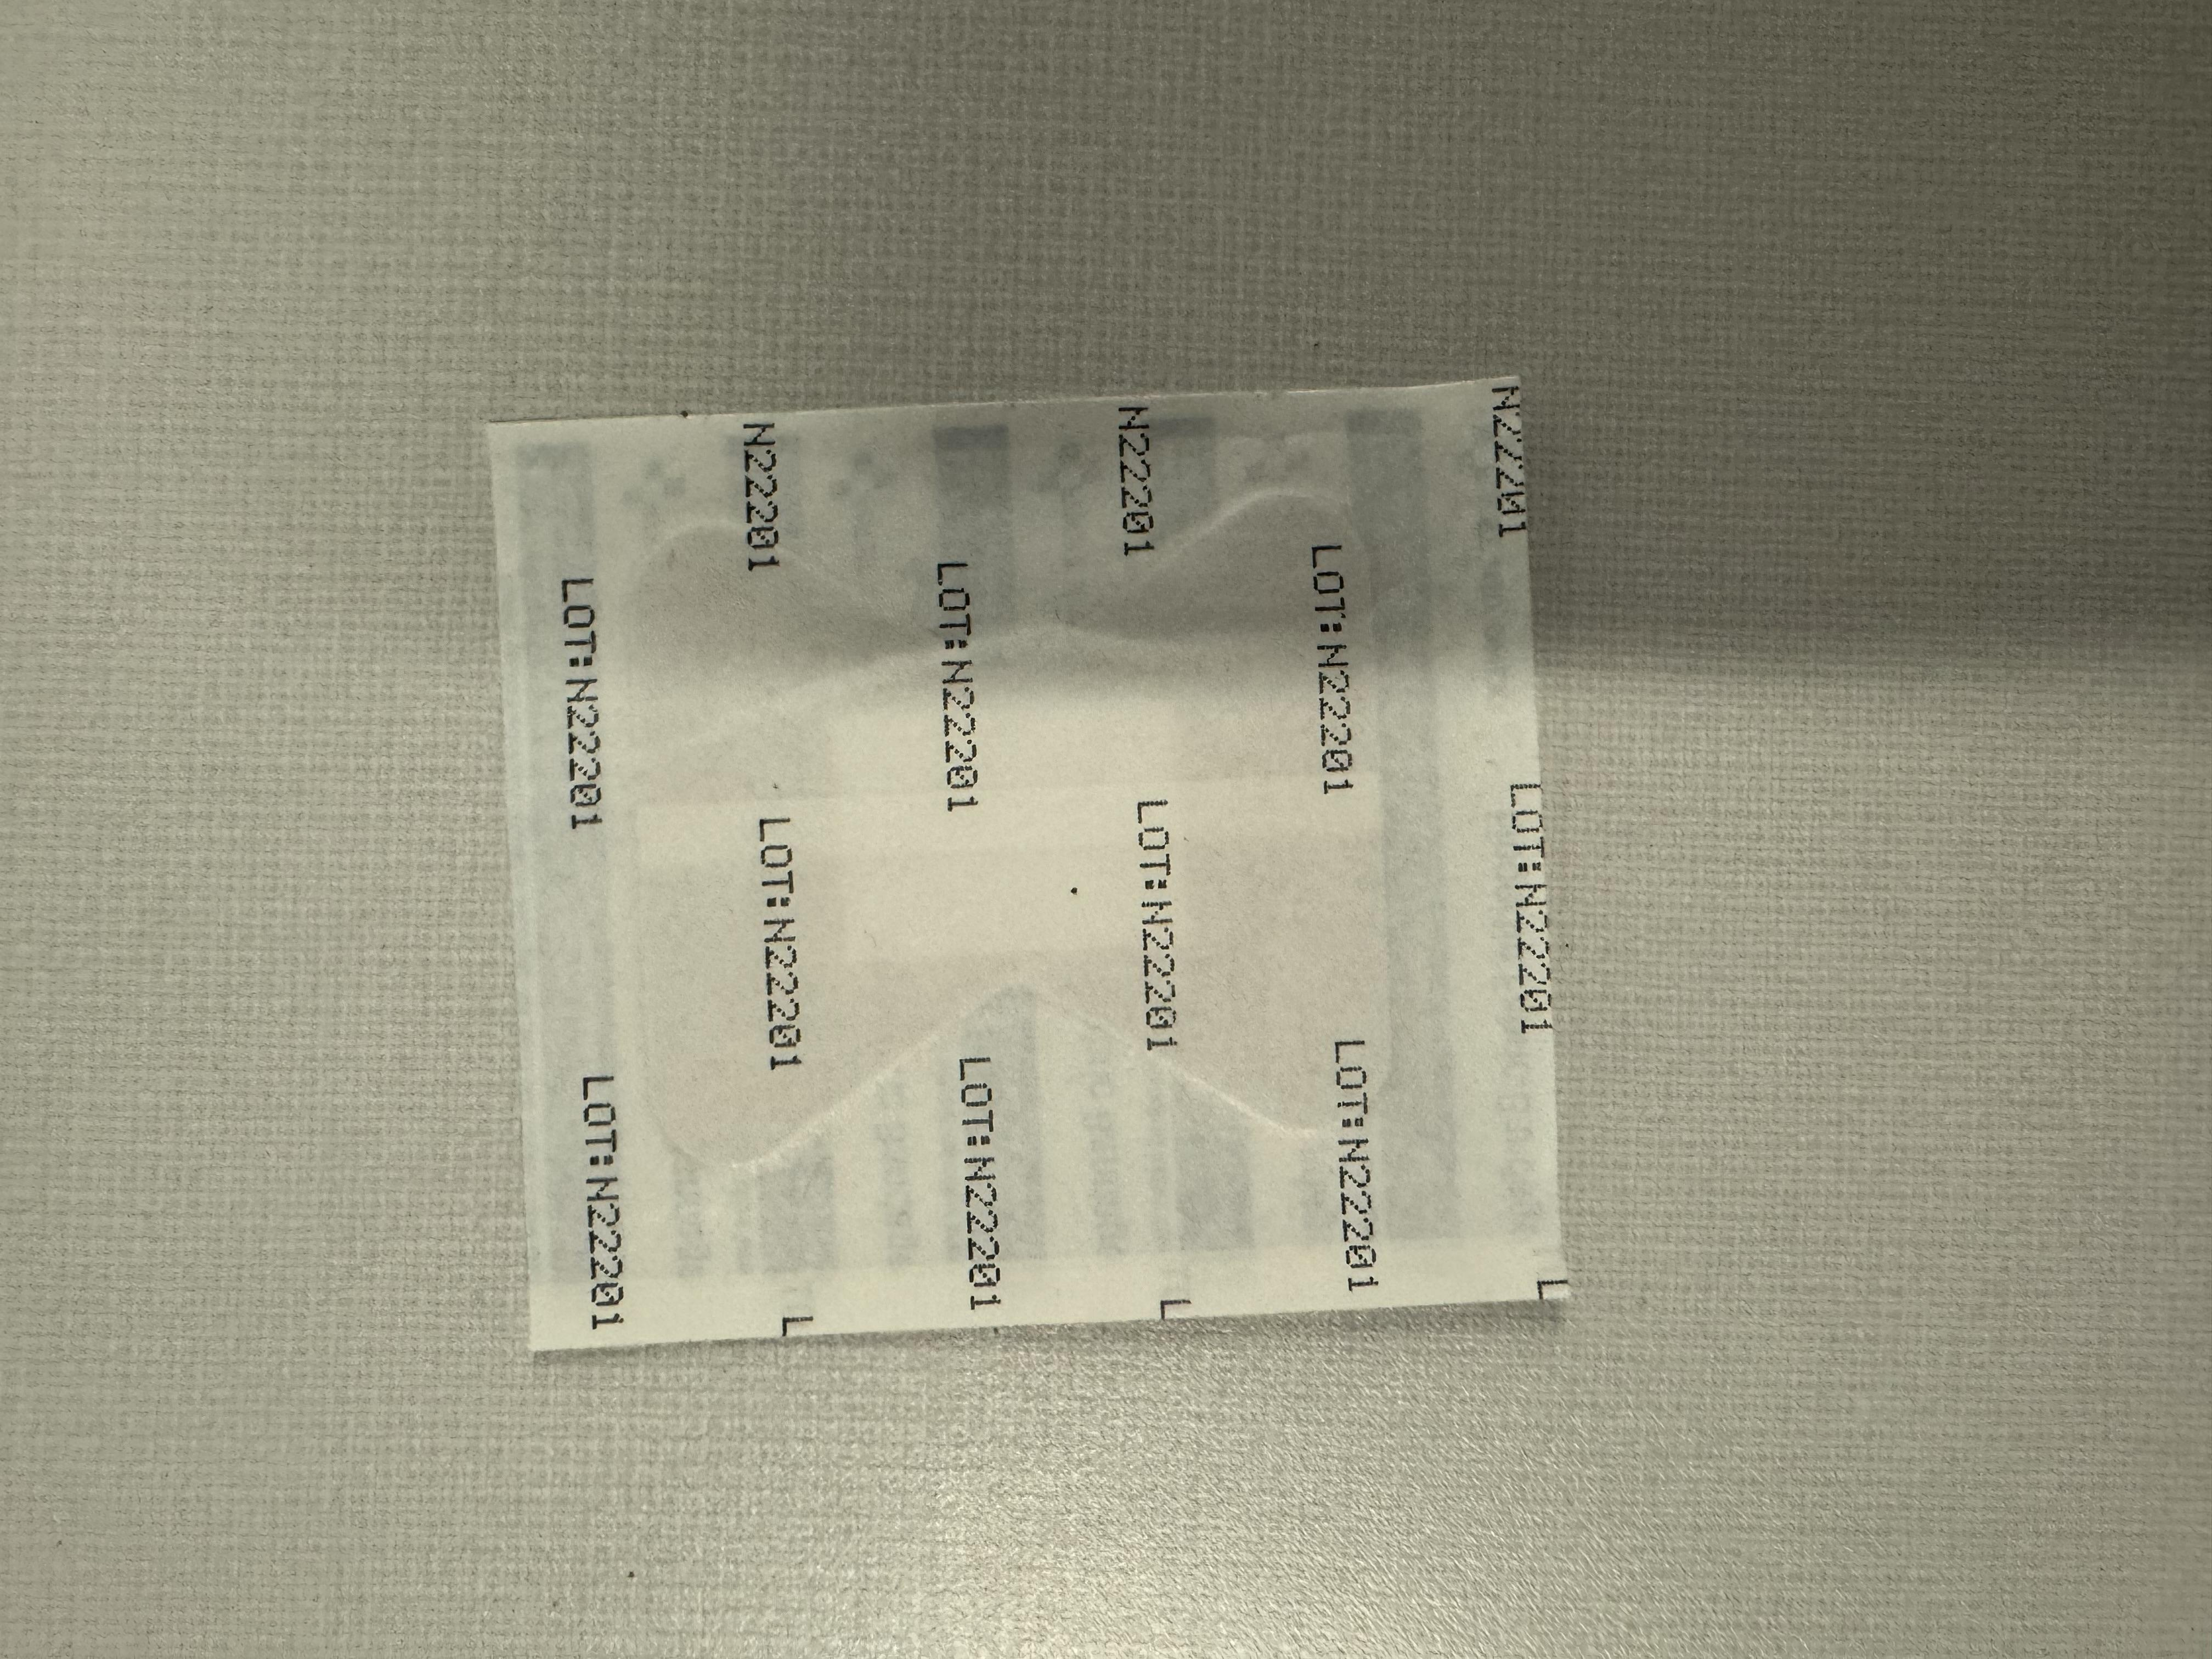bandage: (592, 289, 1797, 1410)
